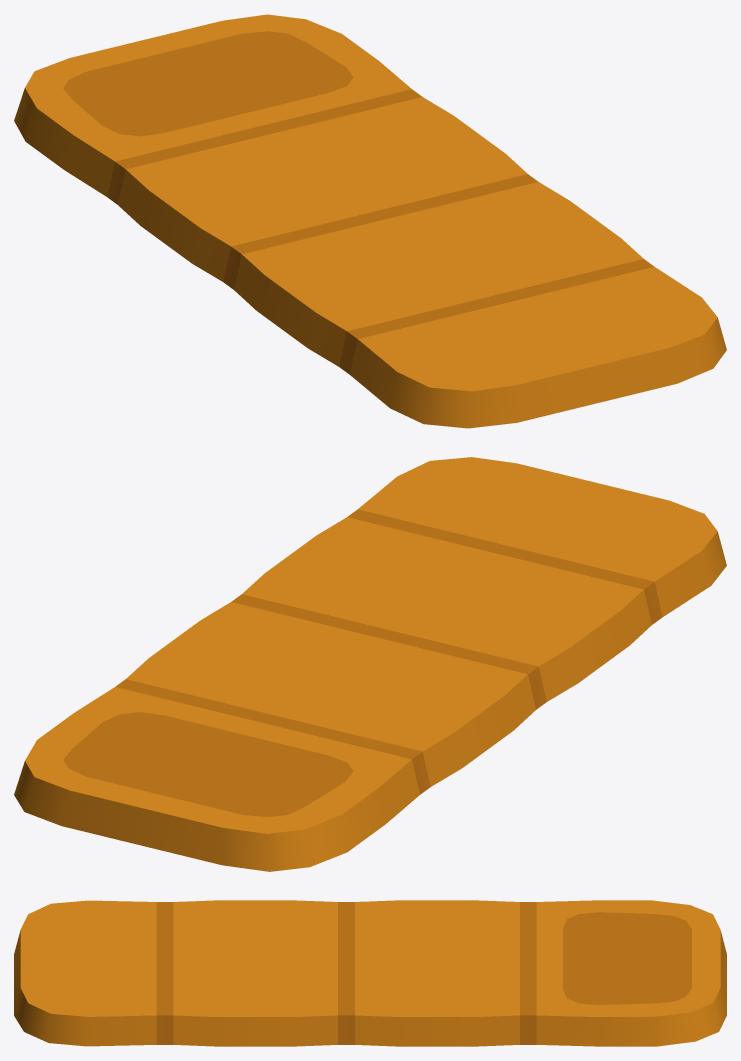
The model's file is SM_SleepingBag_A.fbx.
3 renders of one model, top to bottom at view 1: azimuth 30°, elevation 25°; view 2: azimuth 150°, elevation 25°; view 3: azimuth 270°, elevation 25°, orthographic. The views are drawn at different scales.
Parts seen in each view (by area): view 1: SM_SleepingBag_A; view 2: SM_SleepingBag_A; view 3: SM_SleepingBag_A.
Part boxes in pixels (<box>): SM_SleepingBag_A: <box>14,14,726,428</box>; SM_SleepingBag_A: <box>14,457,726,871</box>; SM_SleepingBag_A: <box>14,900,726,1046</box>.
Size of the model in its own units: 79.61 by 7.95 by 195.
